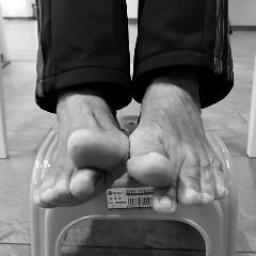Front View -Both Feet-: (10, 64, 250, 225)
